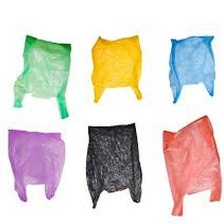plastic_bag: (156, 111, 224, 219), (79, 117, 148, 214), (8, 29, 77, 120), (0, 123, 73, 205), (87, 29, 153, 109), (161, 34, 221, 109)
